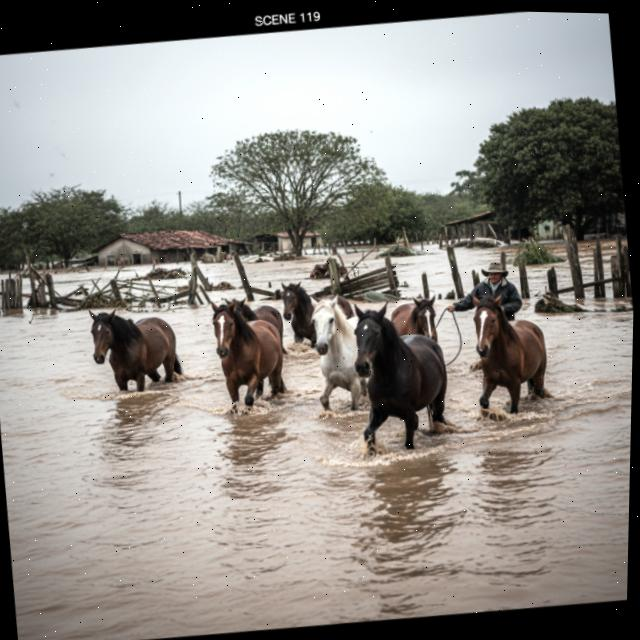civilian: (448, 251, 525, 334)
horse: (342, 301, 457, 452), (451, 293, 568, 422), (194, 292, 302, 423), (73, 294, 190, 407), (300, 292, 370, 412), (381, 286, 443, 351), (273, 276, 319, 347)
